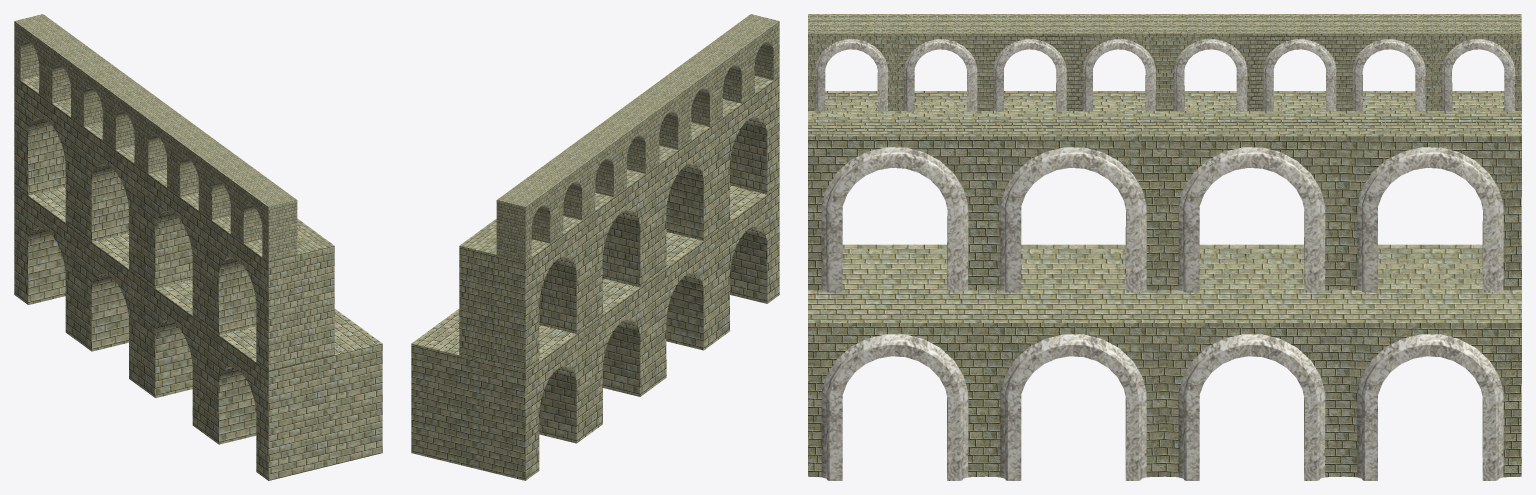
The model's file is Aqueduct3.glb.
3 views of the same model, side by side, from view 1: azimuth 30°, elevation 25°; view 2: azimuth 150°, elevation 25°; view 3: azimuth 270°, elevation 25° (orthographic). The views are drawn at different scales.
Visible parts, largest first — view 1: Aqueduct; view 2: Aqueduct; view 3: Aqueduct.
Part boxes in pixels (<box>): Aqueduct: <box>14,14,382,480</box>; Aqueduct: <box>411,14,779,480</box>; Aqueduct: <box>808,14,1521,480</box>.
Size of the model in its own units: 18.18 by 39.55 by 66.53.
Materials: 6 (6 with a texture image).
